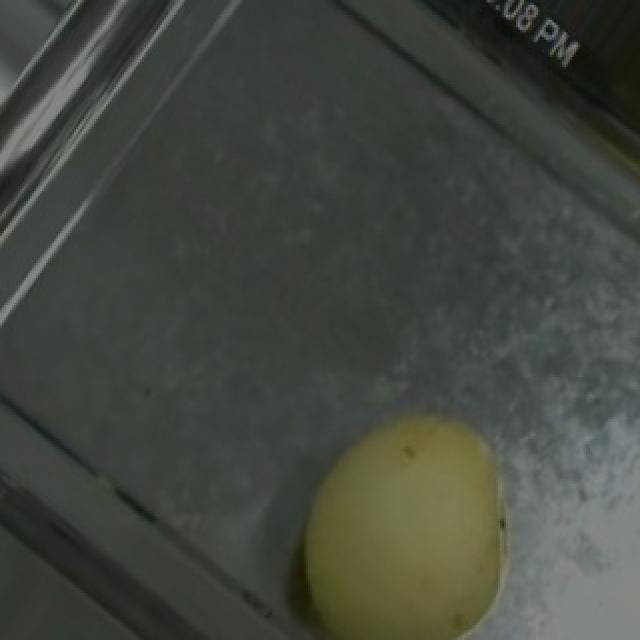Fruit: (254, 374, 540, 640)
